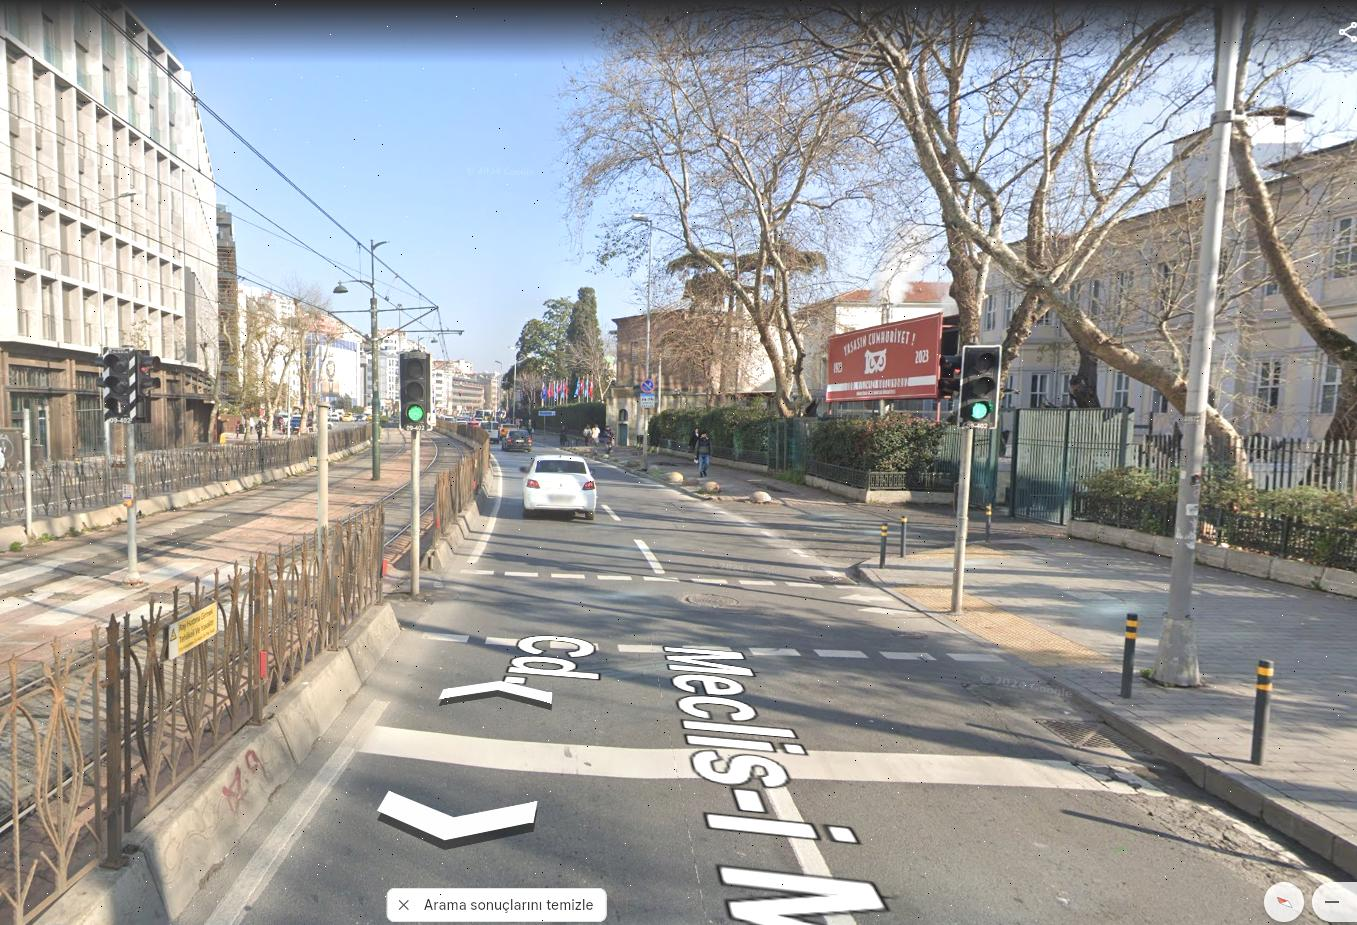greenlight: (965, 348, 995, 423), (400, 354, 426, 424)
